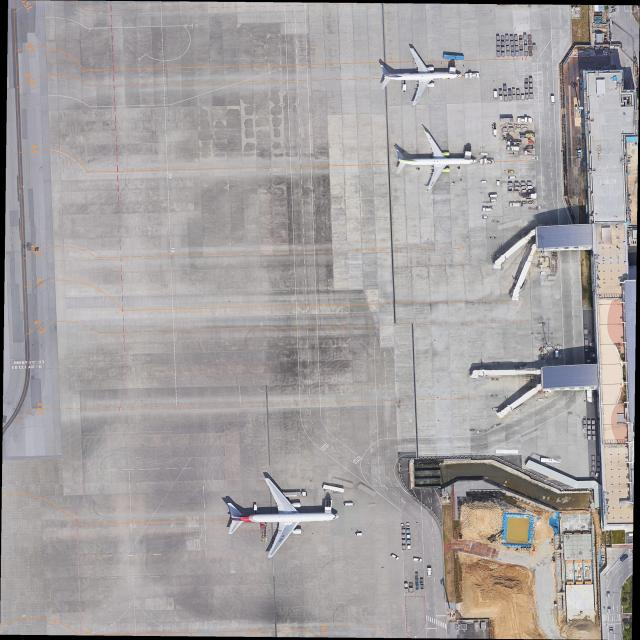large-vehicle: (426, 567, 433, 577), (549, 95, 556, 104), (482, 207, 494, 212), (487, 193, 498, 198), (554, 348, 559, 358), (606, 606, 612, 614), (609, 627, 614, 635), (606, 591, 611, 598), (489, 199, 497, 203)
plane: (216, 467, 344, 560), (369, 42, 466, 107), (388, 123, 477, 193)
small-vehicle: (619, 553, 630, 562), (389, 552, 400, 561), (412, 556, 422, 563), (354, 532, 364, 537), (479, 215, 489, 220), (506, 169, 514, 174), (507, 175, 516, 179), (495, 179, 500, 186)
